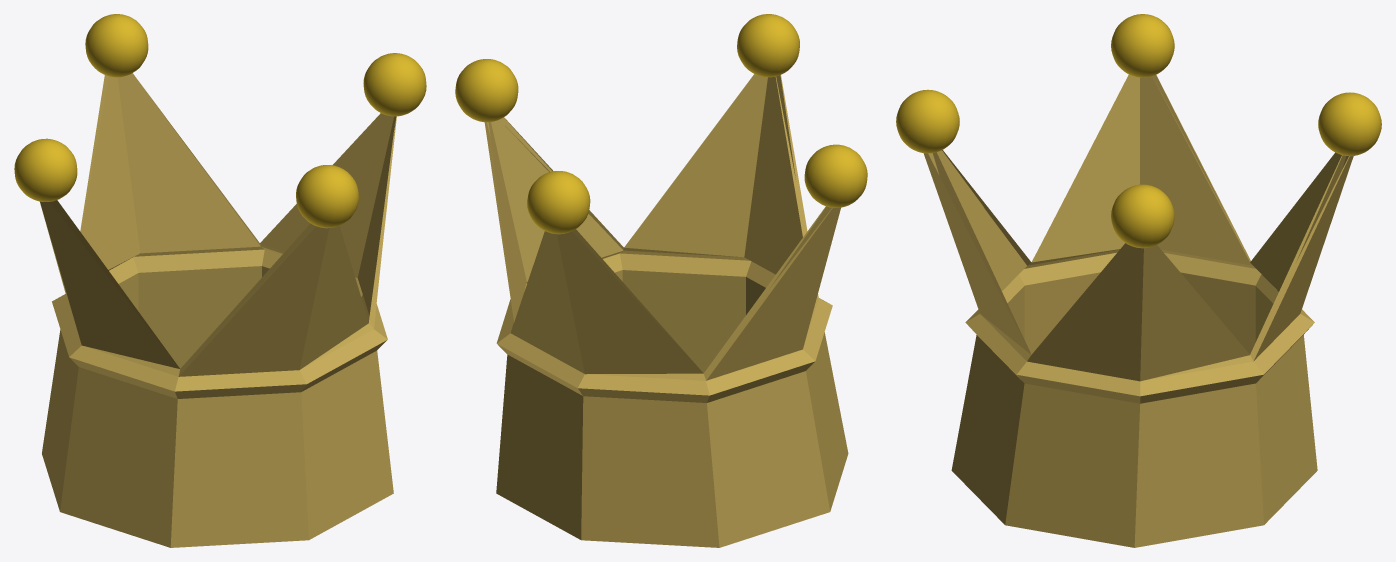
Rendered from Crown.fbx.
3 views of the same model, side by side, from view 1: azimuth 30°, elevation 25°; view 2: azimuth 150°, elevation 25°; view 3: azimuth 270°, elevation 25° (orthographic).
Parts seen in each view (by area): view 1: pCylinder3, pSphere4, pSphere1, pSphere2, pSphere3; view 2: pCylinder3, pSphere4, pSphere1, pSphere3, pSphere2; view 3: pCylinder3, pSphere2, pSphere3, pSphere4, pSphere1.
Part boxes in pixels (x1,y1,x2,y2): pCylinder3: [40, 73, 396, 547]; pSphere4: [363, 53, 426, 116]; pSphere1: [14, 138, 77, 201]; pSphere2: [85, 14, 148, 77]; pSphere3: [296, 165, 358, 228]; pCylinder3: [484, 74, 848, 547]; pSphere4: [455, 59, 518, 122]; pSphere1: [804, 144, 867, 207]; pSphere3: [737, 14, 799, 77]; pSphere2: [527, 171, 590, 234]; pCylinder3: [923, 74, 1353, 547]; pSphere2: [1318, 92, 1381, 156]; pSphere3: [896, 89, 959, 153]; pSphere4: [1111, 184, 1174, 248]; pSphere1: [1111, 14, 1174, 77].
Size of the model in its own units: 6.93 by 6.22 by 7.18.
